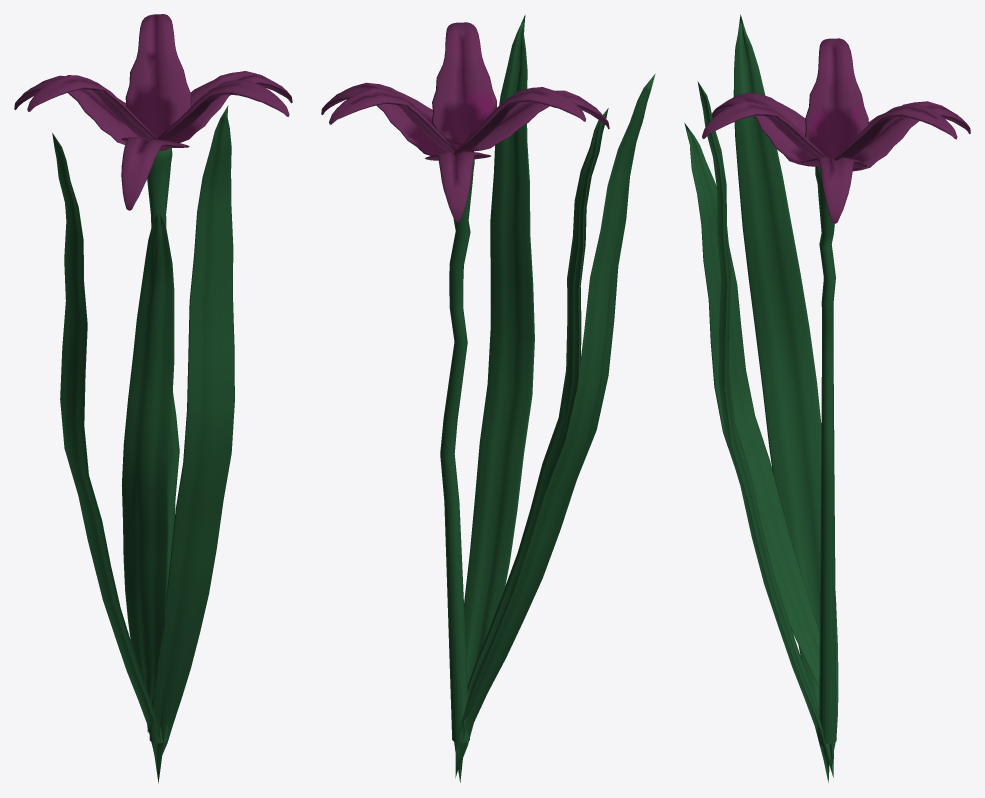
File: Flower2.fbx
3 views of the same model, side by side, from view 1: azimuth 30°, elevation 25°; view 2: azimuth 150°, elevation 25°; view 3: azimuth 270°, elevation 25° (orthographic). The views are drawn at different scales.
Parts seen in each view (by area): view 1: polySurface4; view 2: polySurface4; view 3: polySurface4.
Boxes of the visible parts, box(x1,y1,x2,y2) form: polySurface4: box(14, 14, 292, 783); polySurface4: box(321, 15, 655, 782); polySurface4: box(684, 14, 970, 782).
Size of the model in its own units: 16.23 by 39.22 by 14.46.
